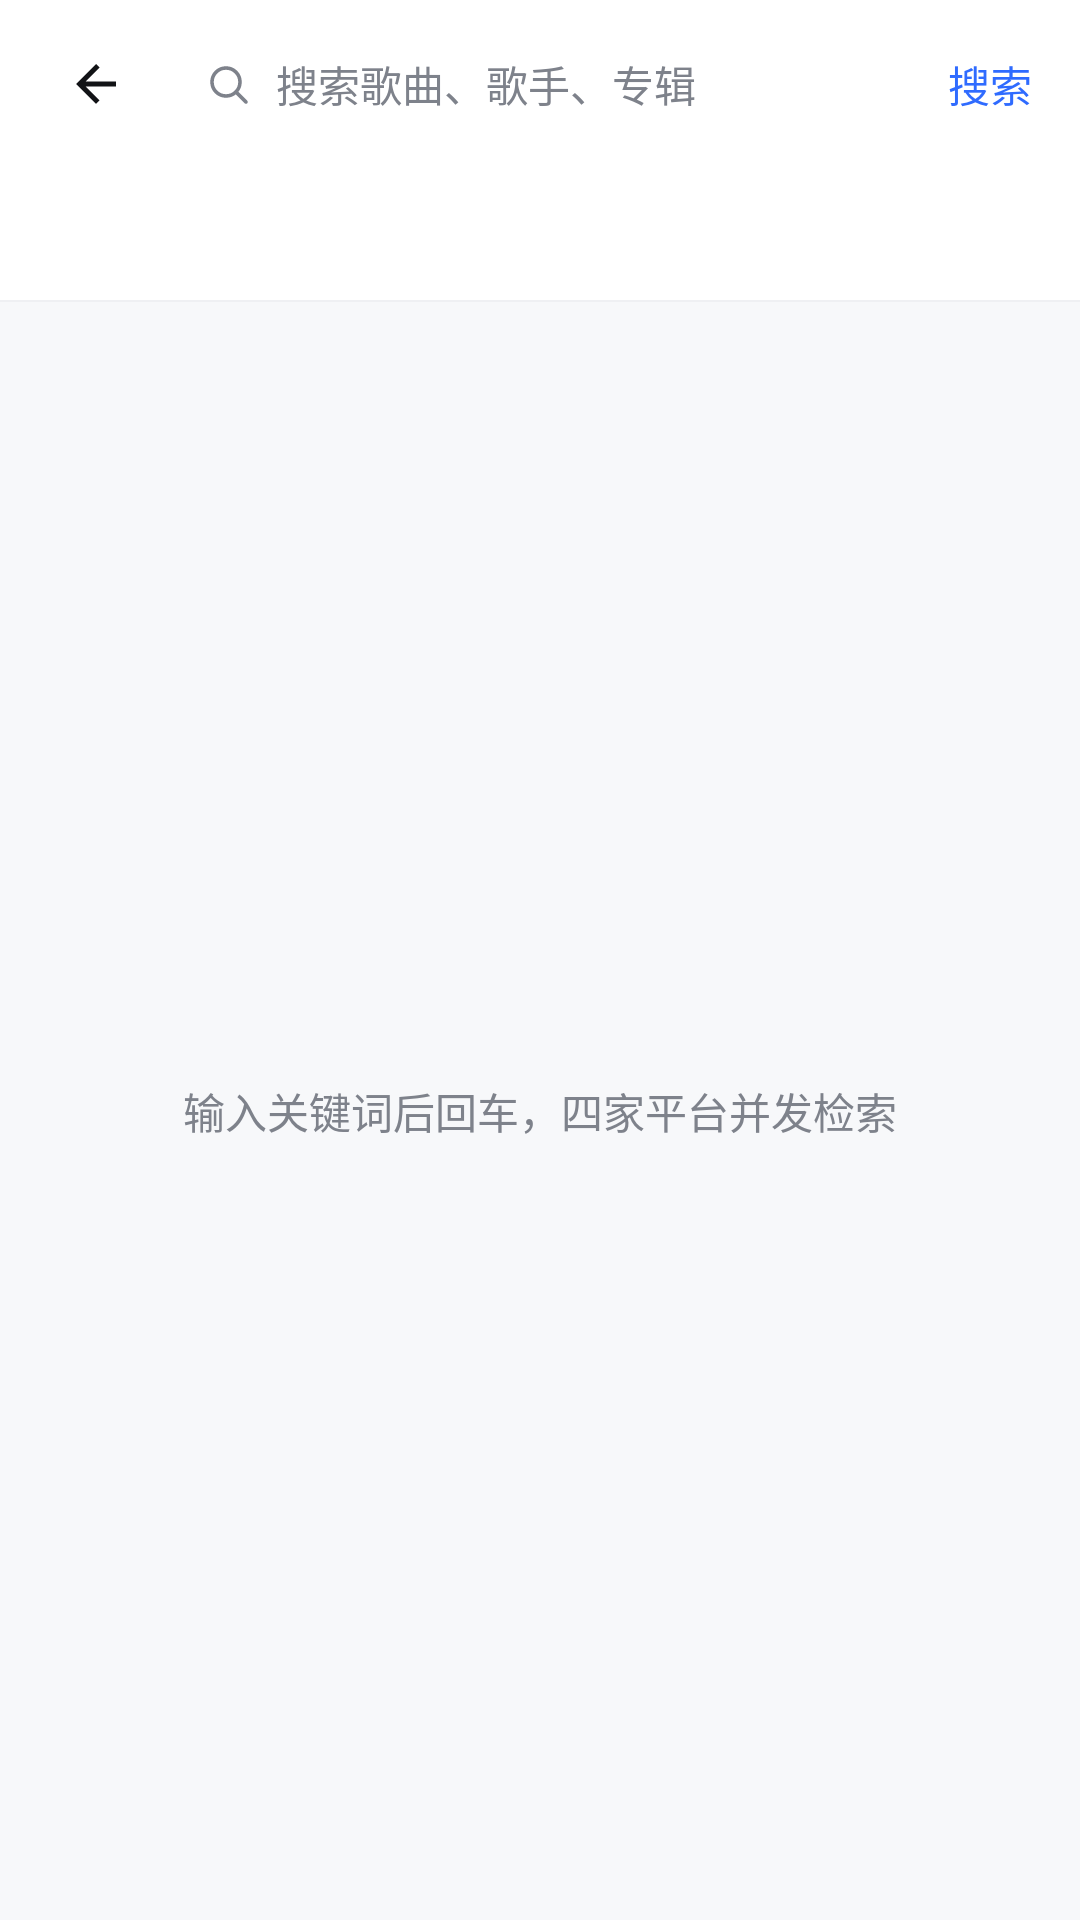

Named icons in this screenshot (1080 × 1920) and their centers, (x=x, y=y):
返回: (x=96, y=84)
